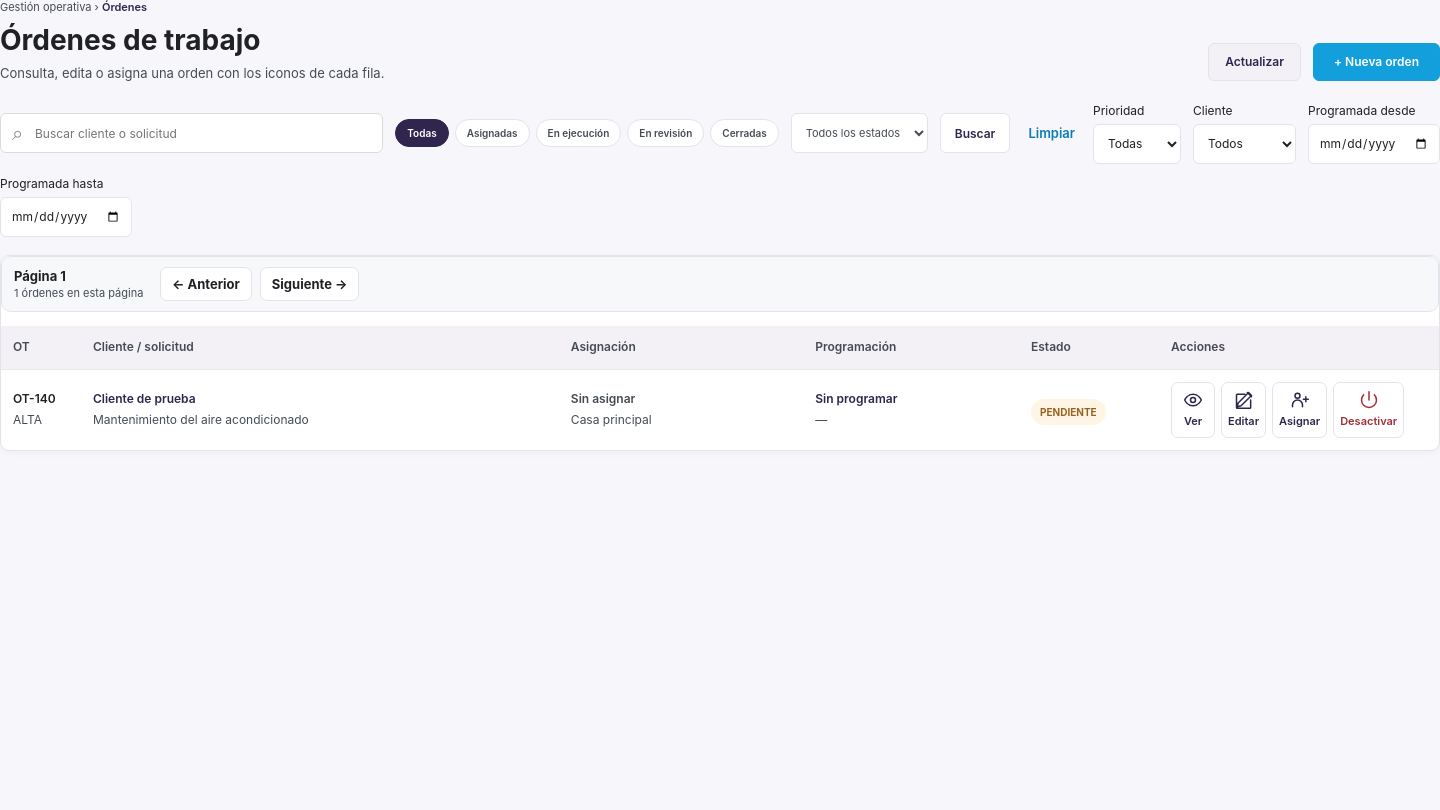
Gestión web de órdenes de trabajo › desactiva desde Acciones únicamente después de indicar un motivo
Expected: the text "OT-140" is shown, [13,391,56,406]
Click the button with aria-label "Desactivar OT-140".
click(1369, 410)  # box [1333,382,1404,438]
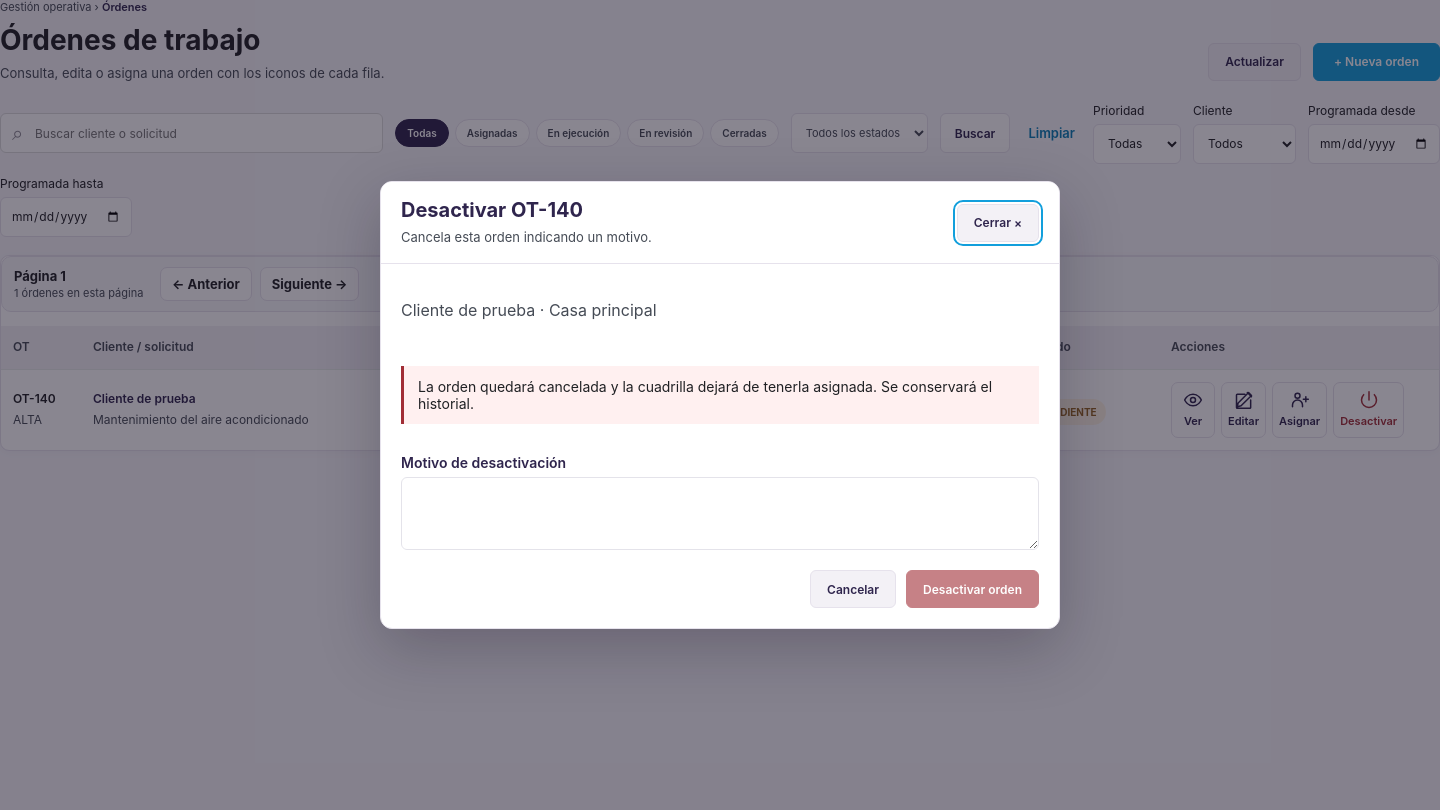
Result: the button "Desactivar orden" is disabled at [906,570,1039,608]
Type "Cancelación solicitada" into the text box labelled "Motivo de desactivación".
click(720, 514); type("Cancelación solicitada")  # box [401,477,1039,550]
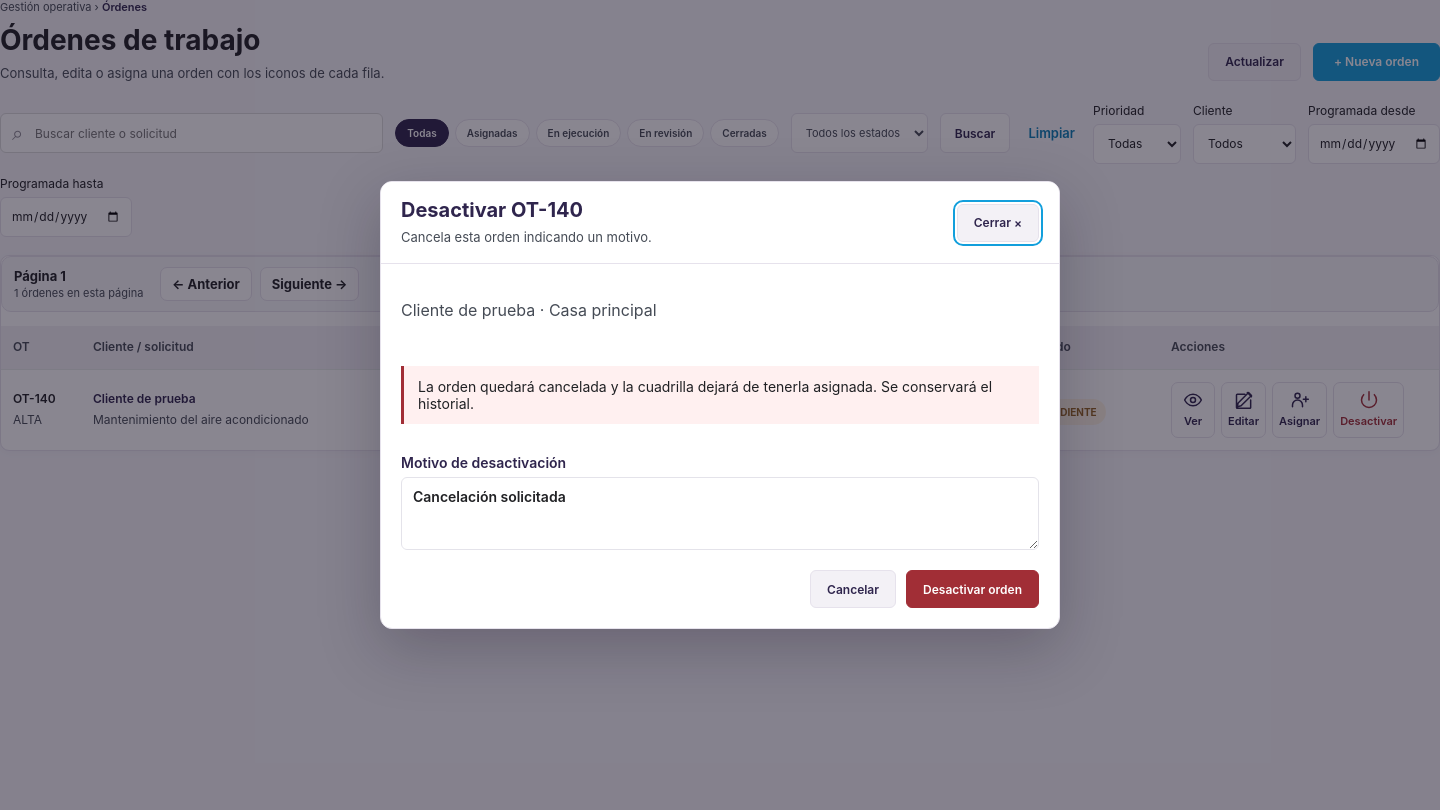
Click the button "Desactivar orden".
click(972, 589)  # box [906,570,1039,608]
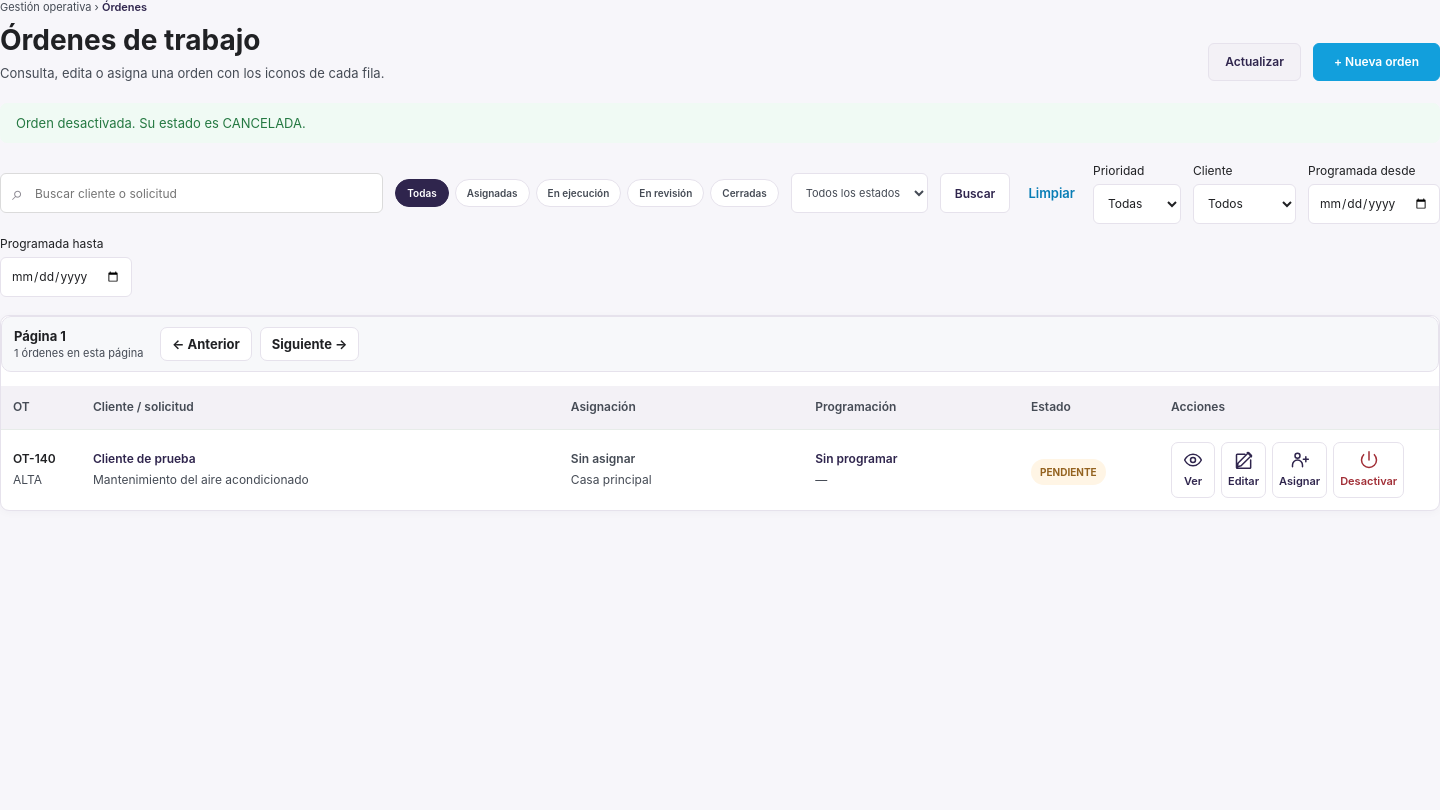
Result: the dialog is gone
Result: the message shows "Orden desactivada" at [16,115,306,131]
